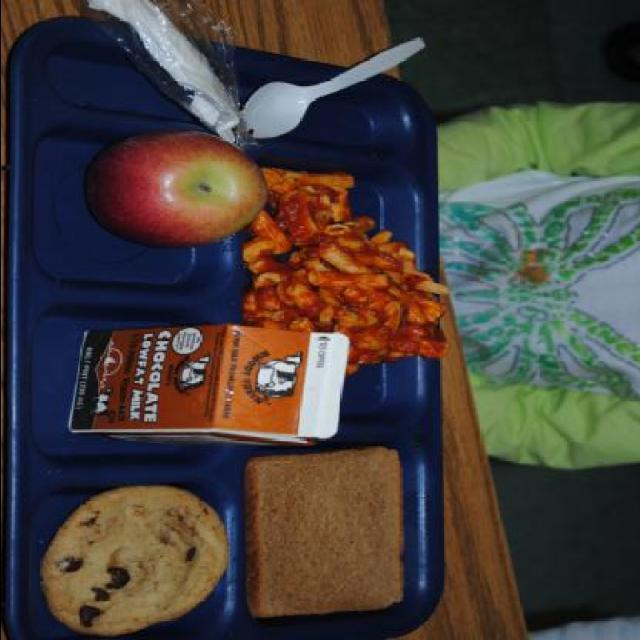Cookie: (37, 486, 228, 632)
